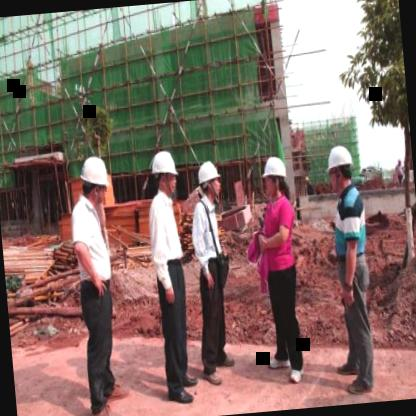helmet: (76, 154, 114, 212), (324, 140, 358, 195), (148, 148, 182, 202), (260, 150, 292, 202), (196, 159, 224, 202)
